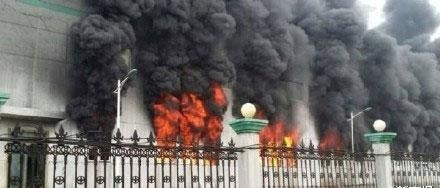fire: (150, 84, 226, 164), (256, 110, 298, 166), (317, 128, 342, 153)
